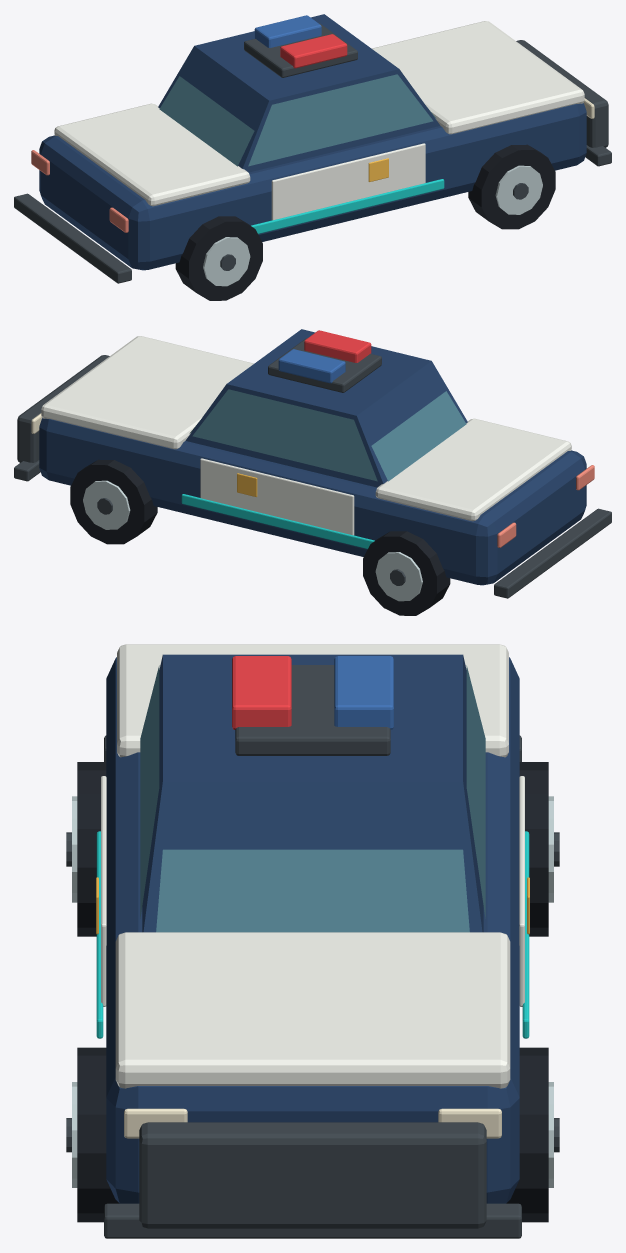
File: PoliceCar.fbx
3 views of the same model, one above another, from view 1: azimuth 30°, elevation 25°; view 2: azimuth 150°, elevation 25°; view 3: azimuth 270°, elevation 25° (orthographic). The views are drawn at different scales.
Parts seen in each view (by area): view 1: PoliceCar; view 2: PoliceCar; view 3: PoliceCar.
Part boxes in pixels (<box>): PoliceCar: <box>14,14,611,300</box>; PoliceCar: <box>14,329,611,615</box>; PoliceCar: <box>66,644,559,1238</box>.
Size of the model in its own units: 543 by 196 by 231.
